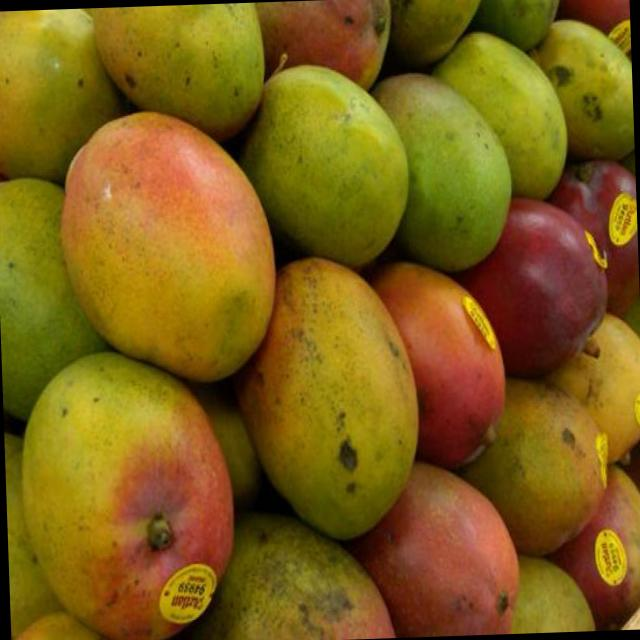mango: (17, 331, 237, 640), (57, 104, 280, 383), (256, 249, 420, 551), (366, 448, 539, 638), (242, 66, 410, 261)
